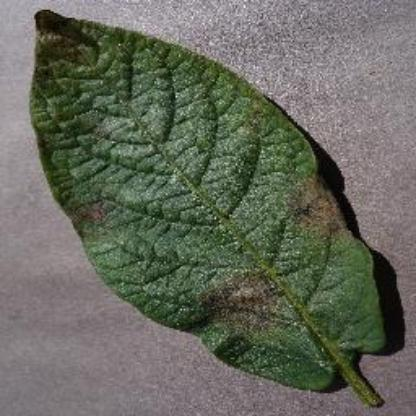Late-Blight: (21, 6, 401, 408)
